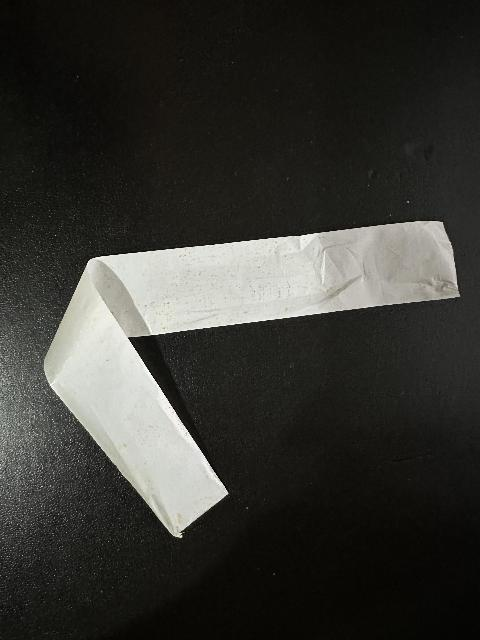Plastik: (32, 217, 475, 543)
